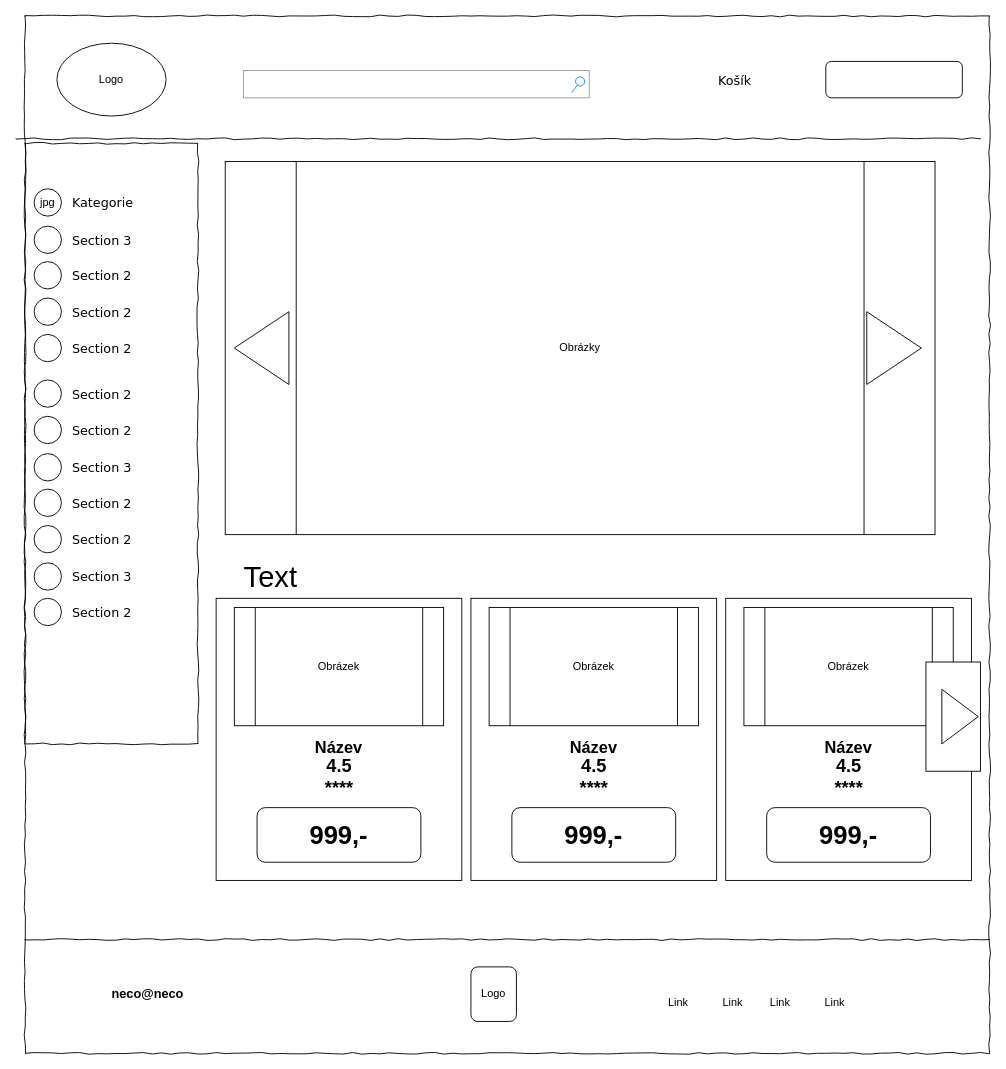
Some shapes in this 1006 by 1069 pixel diagram are drawn without their labels. Each missing label, with the centre of its shape:
"Login" belongs at pixel 893 79.
"Search" belongs at pixel 416 84.
